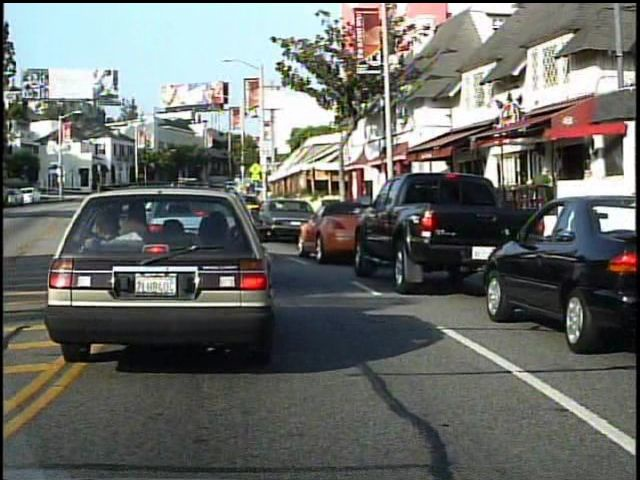person: (529, 163, 556, 230)
